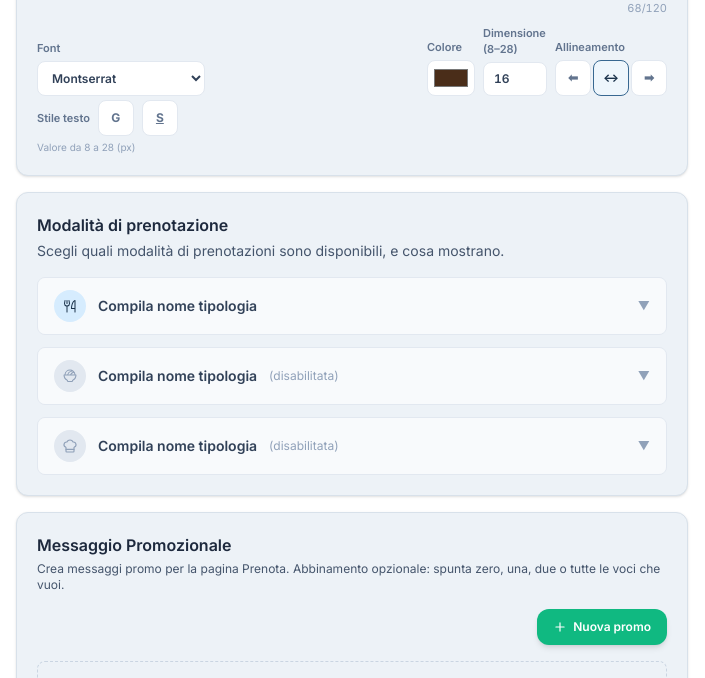
Test: FIX 9 §3A — compilable_category_keys toggle admin › click doppio su toggle ripristina stato ON (round-trip UI)
(page scrolled)
Step 1. Click the button "Compila nome tipologia ▼" → (70, 306), box [38,278,666,334]
(page scrolled)
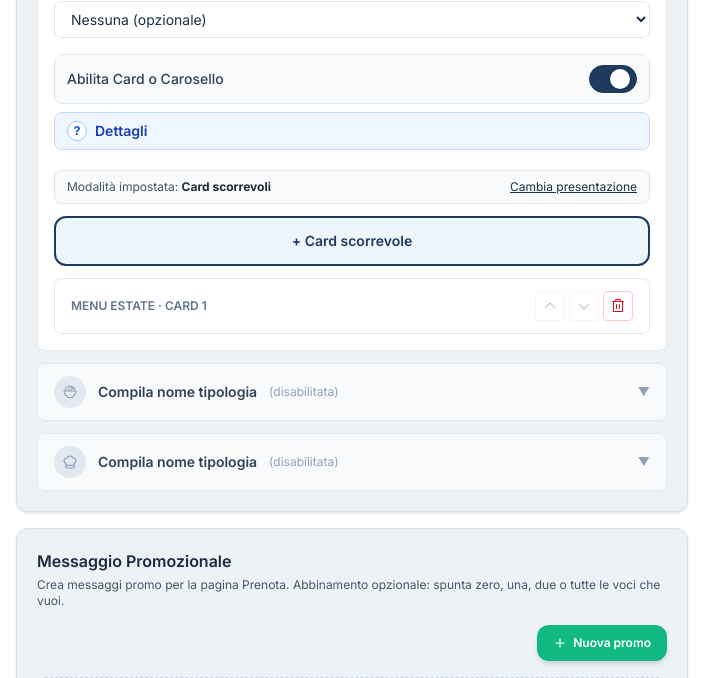
Now the text "Abilita Card o Carosello" is shown, box [67,69,224,89]
Now the text "Menu Estate · Card 1" is shown, box [71,298,207,313]
Step 2. Click the button "Menu Estate · Card 1" → (139, 305), box [71,298,523,314]
(page scrolled)
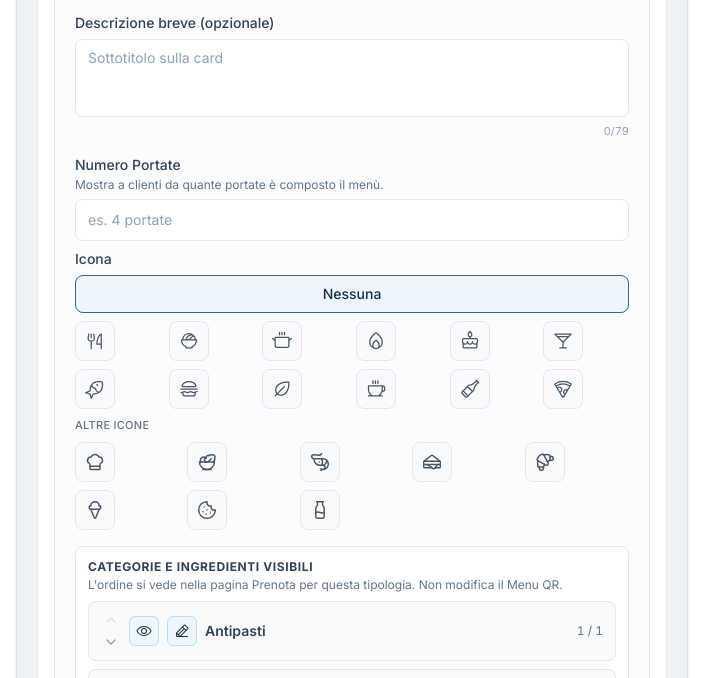
Now the button named "disabilita compilazione antipasti" is shown
Step 3. Click the button named "disabilita compilazione antipasti" → (182, 631), box [167,616,197,646]
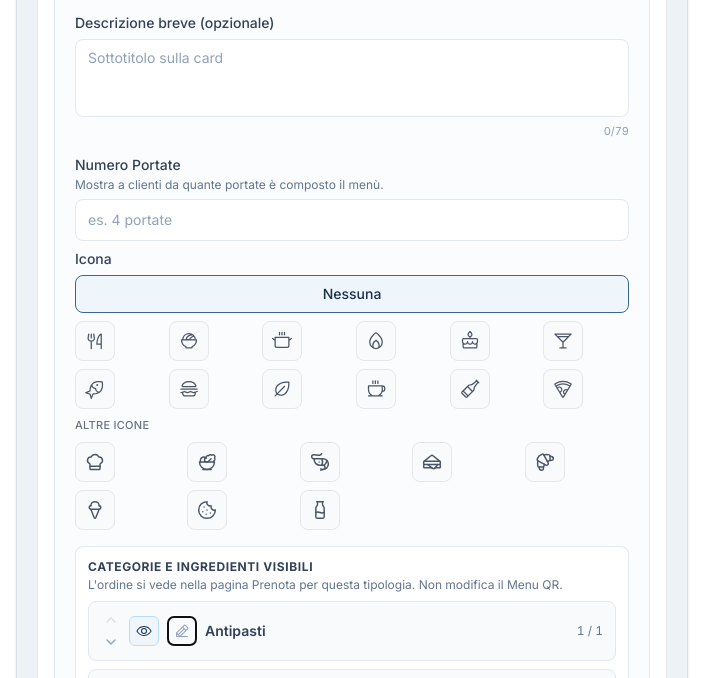
Now the button named "abilita compilazione antipasti" is shown
Step 4. Click the button named "abilita compilazione antipasti" → (182, 631), box [167,616,197,646]
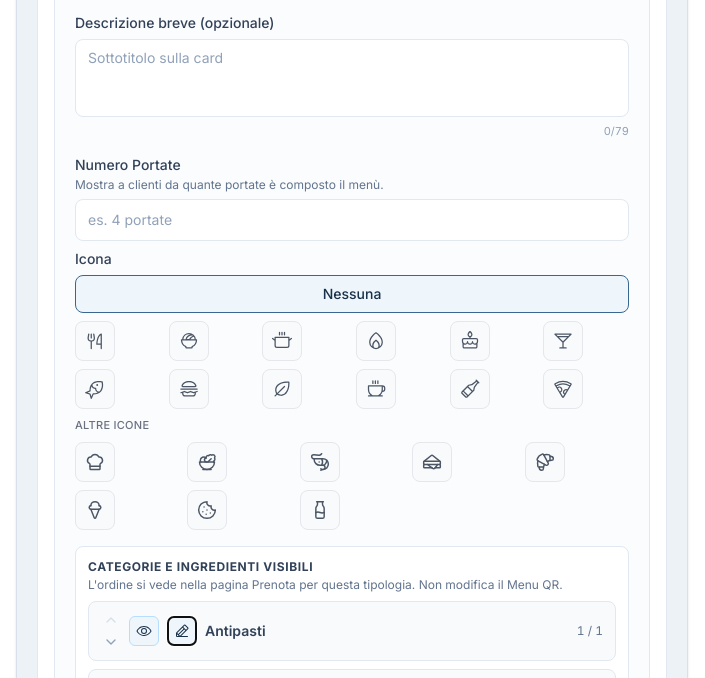
Now the button named "disabilita compilazione antipasti" is shown, box [167,616,197,646]
